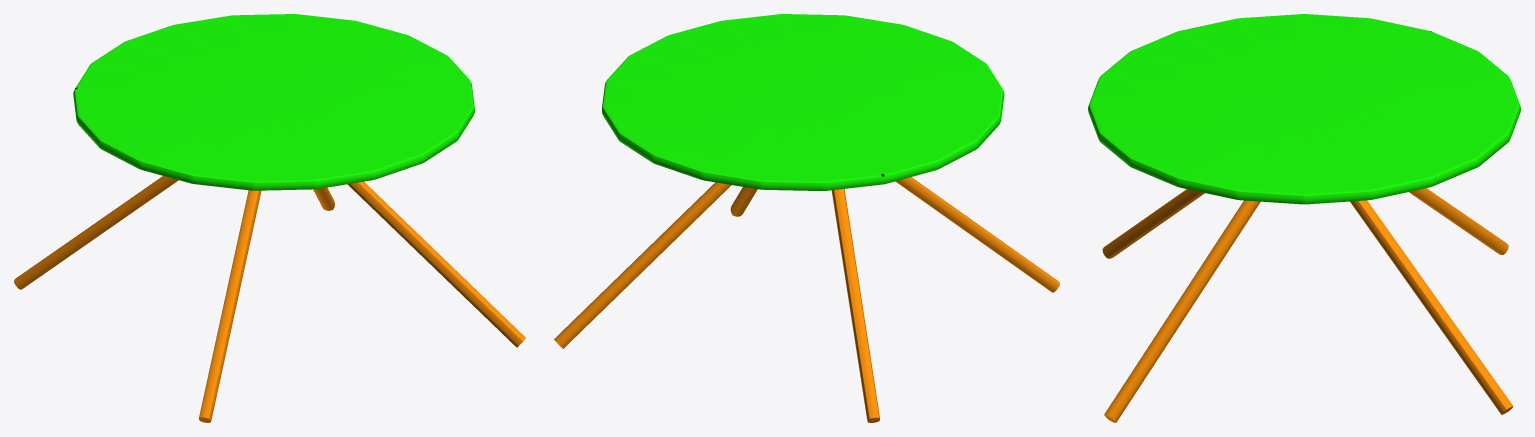
The model's file is Table.obj.
3 renders of one model, left to right at view 1: azimuth 30°, elevation 25°; view 2: azimuth 150°, elevation 25°; view 3: azimuth 270°, elevation 25°, orthographic. The views are drawn at different scales.
Visible parts, largest first — view 1: pCube3; view 2: pCube3; view 3: pCube3.
Boxes of the visible parts, <box> form: pCube3: <box>14,14,525,422</box>; pCube3: <box>554,14,1059,422</box>; pCube3: <box>1088,14,1520,422</box>.
Bounding box in the file's own units: 2.24 × 1.36 × 2.24.
